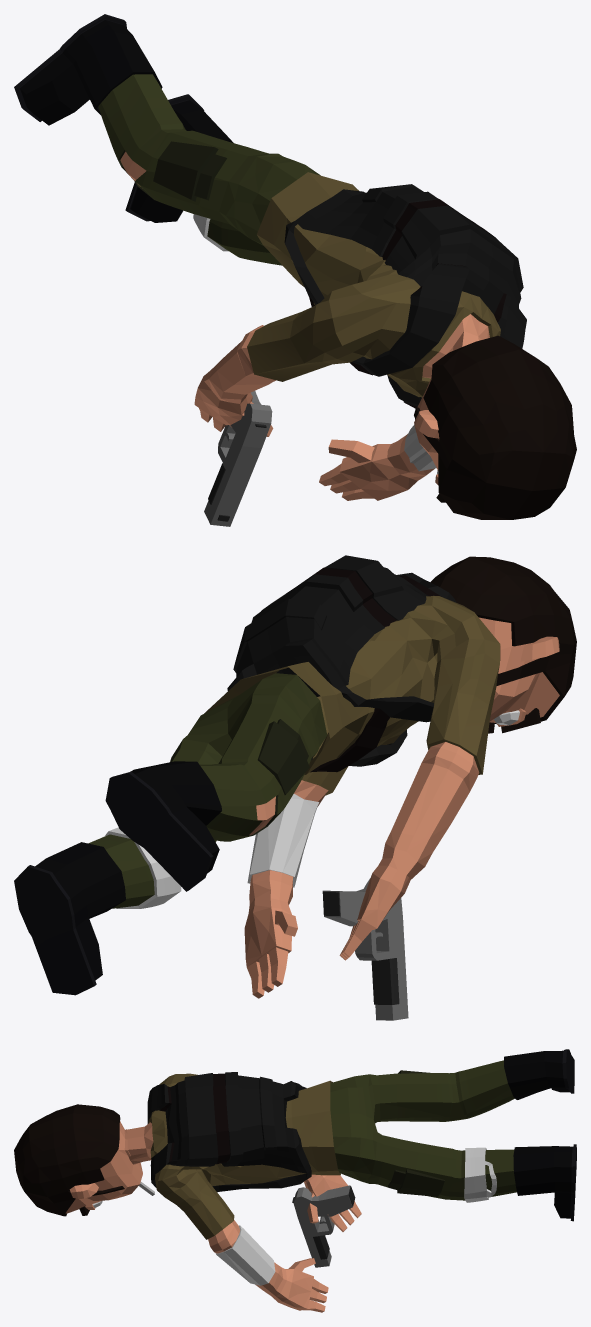
The model's file is frame_0081.obj.
The picture shows the model from 3 angles, top to bottom: view 1: azimuth 30°, elevation 25°; view 2: azimuth 150°, elevation 25°; view 3: azimuth 270°, elevation 25°; orthographic projection. The views are drawn at different scales.
Parts seen in each view (by area): view 1: Body, Gun; view 2: Body, Gun; view 3: Body, Gun.
Boxes of the visible parts, x1,y1,x2,y2 form: Body: [14, 14, 576, 519]; Gun: [204, 391, 272, 526]; Body: [14, 555, 576, 998]; Gun: [322, 878, 408, 1020]; Body: [14, 1049, 576, 1312]; Gun: [292, 1185, 355, 1267].
Size of the model in its own units: 1.33 by 1.98 by 4.15.
